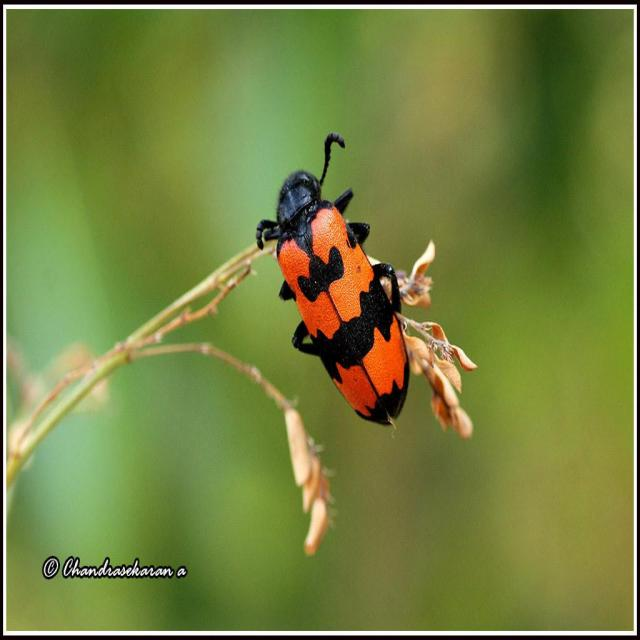BlisterBeetle-Adult-: (252, 129, 422, 447)
